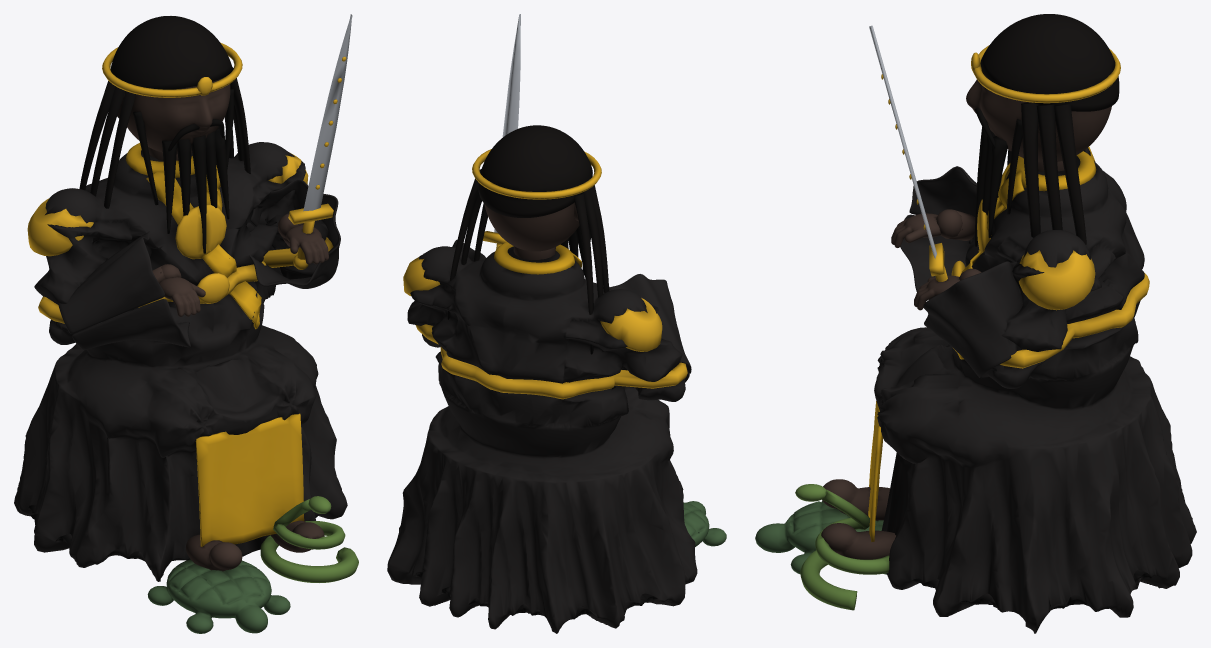
Rendered from xuantian.glb.
3 views of the same model, side by side, from view 1: azimuth 30°, elevation 25°; view 2: azimuth 150°, elevation 25°; view 3: azimuth 270°, elevation 25° (orthographic). The views are drawn at different scales.
Visible parts, largest first — view 1: XT_Robe, XT_Apron, XT_SleeveL, XT_HairCap, XT_Turtle, XT_Beard, XT_Armor, XT_LooseHair, XT_Snake, XT_HeadMesh, XT_SleeveR, XT_Blade (+8 smaller); view 2: XT_Robe, XT_HairCap, XT_LooseHair, XT_Belt, XT_HeadMesh, XT_Armor, XT_SleeveL, XT_Band, XT_Collar, XT_Blade, XT_Turtle; view 3: XT_Robe, XT_HairCap, XT_SleeveR, XT_LooseHair, XT_SleeveL, XT_Snake, XT_Armor, XT_HeadMesh, XT_Boots, XT_Beard, XT_Turtle, XT_Belt (+9 smaller).
Boxes of the visible parts, x1,y1,x2,y2 form: XT_Robe: (14,142,347,581); XT_Apron: (195,413,304,546); XT_SleeveL: (58,231,190,350); XT_HairCap: (110,16,232,89); XT_Turtle: (147,559,290,633); XT_Beard: (133,88,234,253); XT_Armor: (27,153,308,259); XT_LooseHair: (79,67,250,208); XT_Snake: (260,496,358,582); XT_HeadMesh: (121,75,230,153); XT_SleeveR: (246,179,340,288); XT_Blade: (303,14,352,211); XT_Robe: (387,246,697,633); XT_HairCap: (478,125,592,217); XT_LooseHair: (447,169,609,354); XT_Belt: (415,324,687,399); XT_HeadMesh: (484,202,579,251); XT_Armor: (403,256,662,351); XT_SleeveL: (610,274,691,390); XT_Band: (472,149,601,199); XT_Collar: (494,242,574,274); XT_Blade: (494,14,520,232); XT_Turtle: (683,501,726,546); XT_Robe: (874,148,1196,633); XT_HairCap: (980,14,1119,111); XT_SleeveR: (923,261,1022,378); XT_LooseHair: (1021,103,1086,244); XT_SleeveL: (900,166,976,291); XT_Snake: (795,484,889,610); XT_Armor: (977,146,1095,310); XT_HeadMesh: (966,68,1111,162); XT_Boots: (821,479,895,559); XT_Beard: (974,107,1022,246); XT_Turtle: (755,500,886,574); XT_Belt: (951,260,1149,368).
Bounding box in the file's own units: 1.18 × 2.05 × 1.36.
